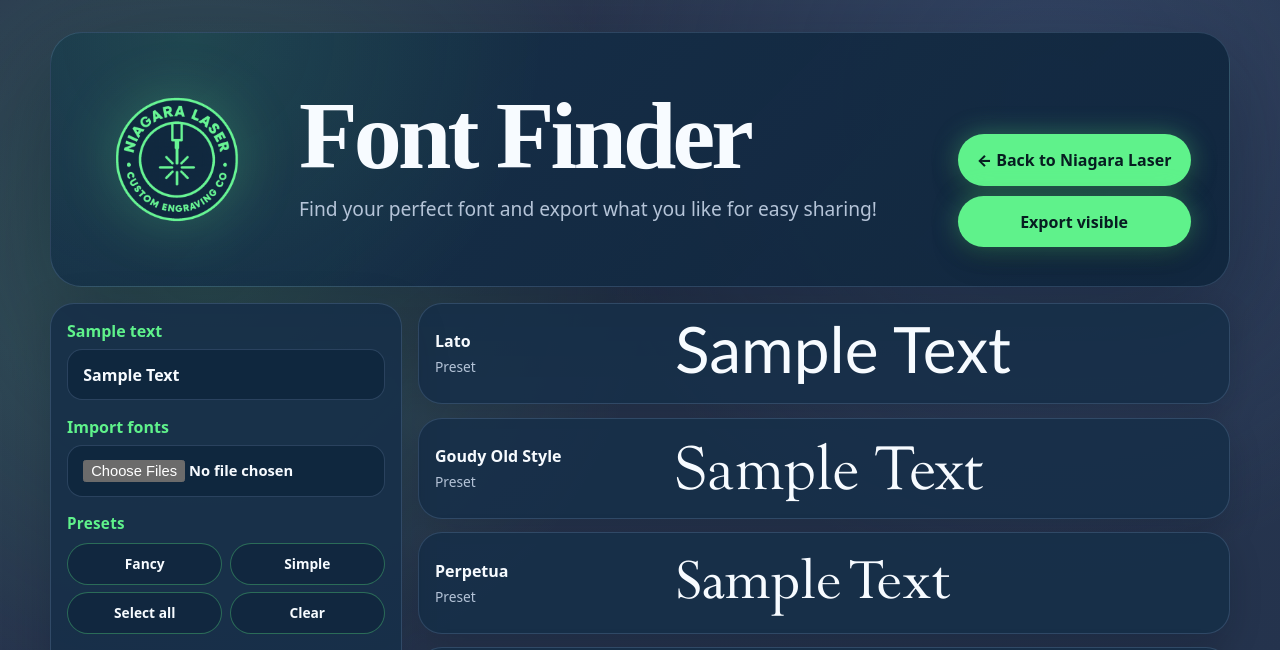
Font App › selects all and clears all font visibility
Click the button "Clear": click(307, 613) [230,592,385,634]
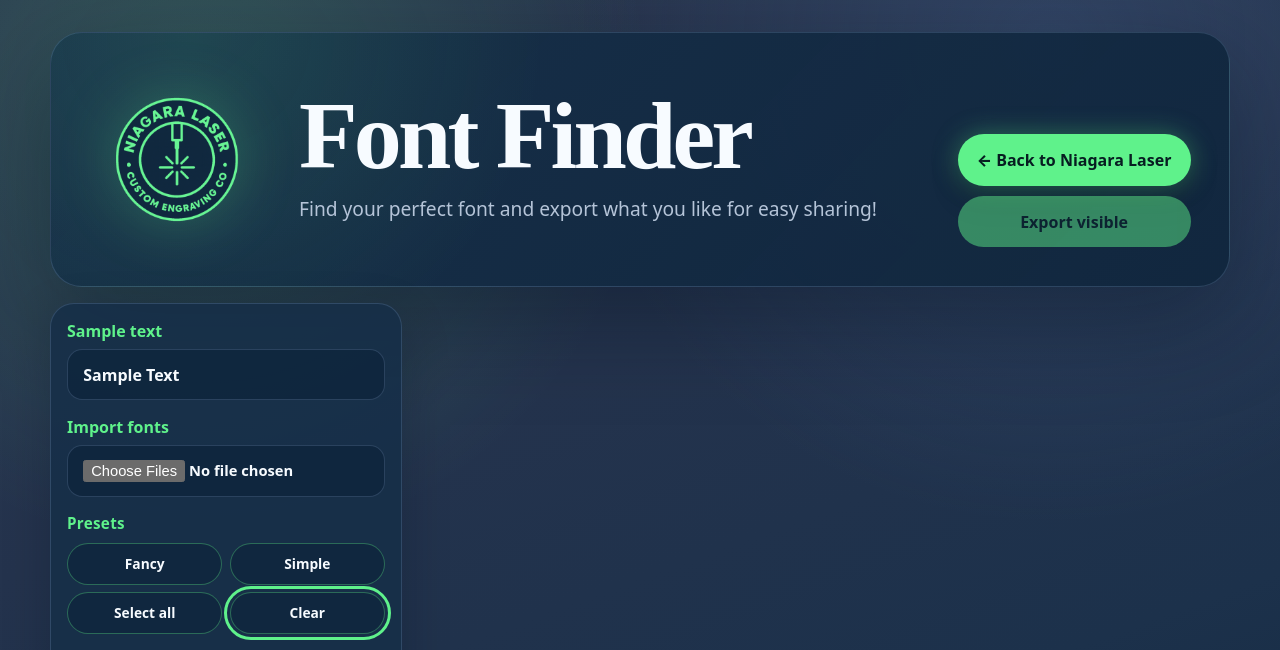
Now the button "Export visible" is disabled, box [958,196,1191,247]
Click the button "Select all": click(145, 613) [67,592,222,634]
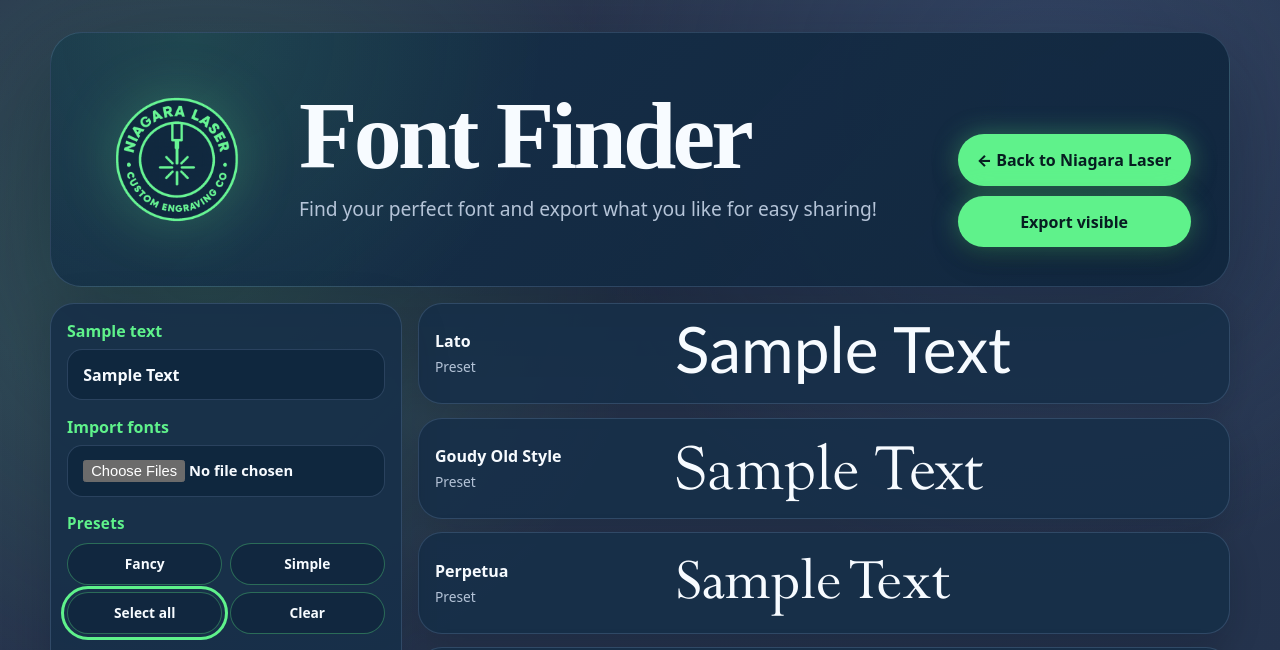
Now the button "Export visible" is enabled, box [958,196,1191,247]
